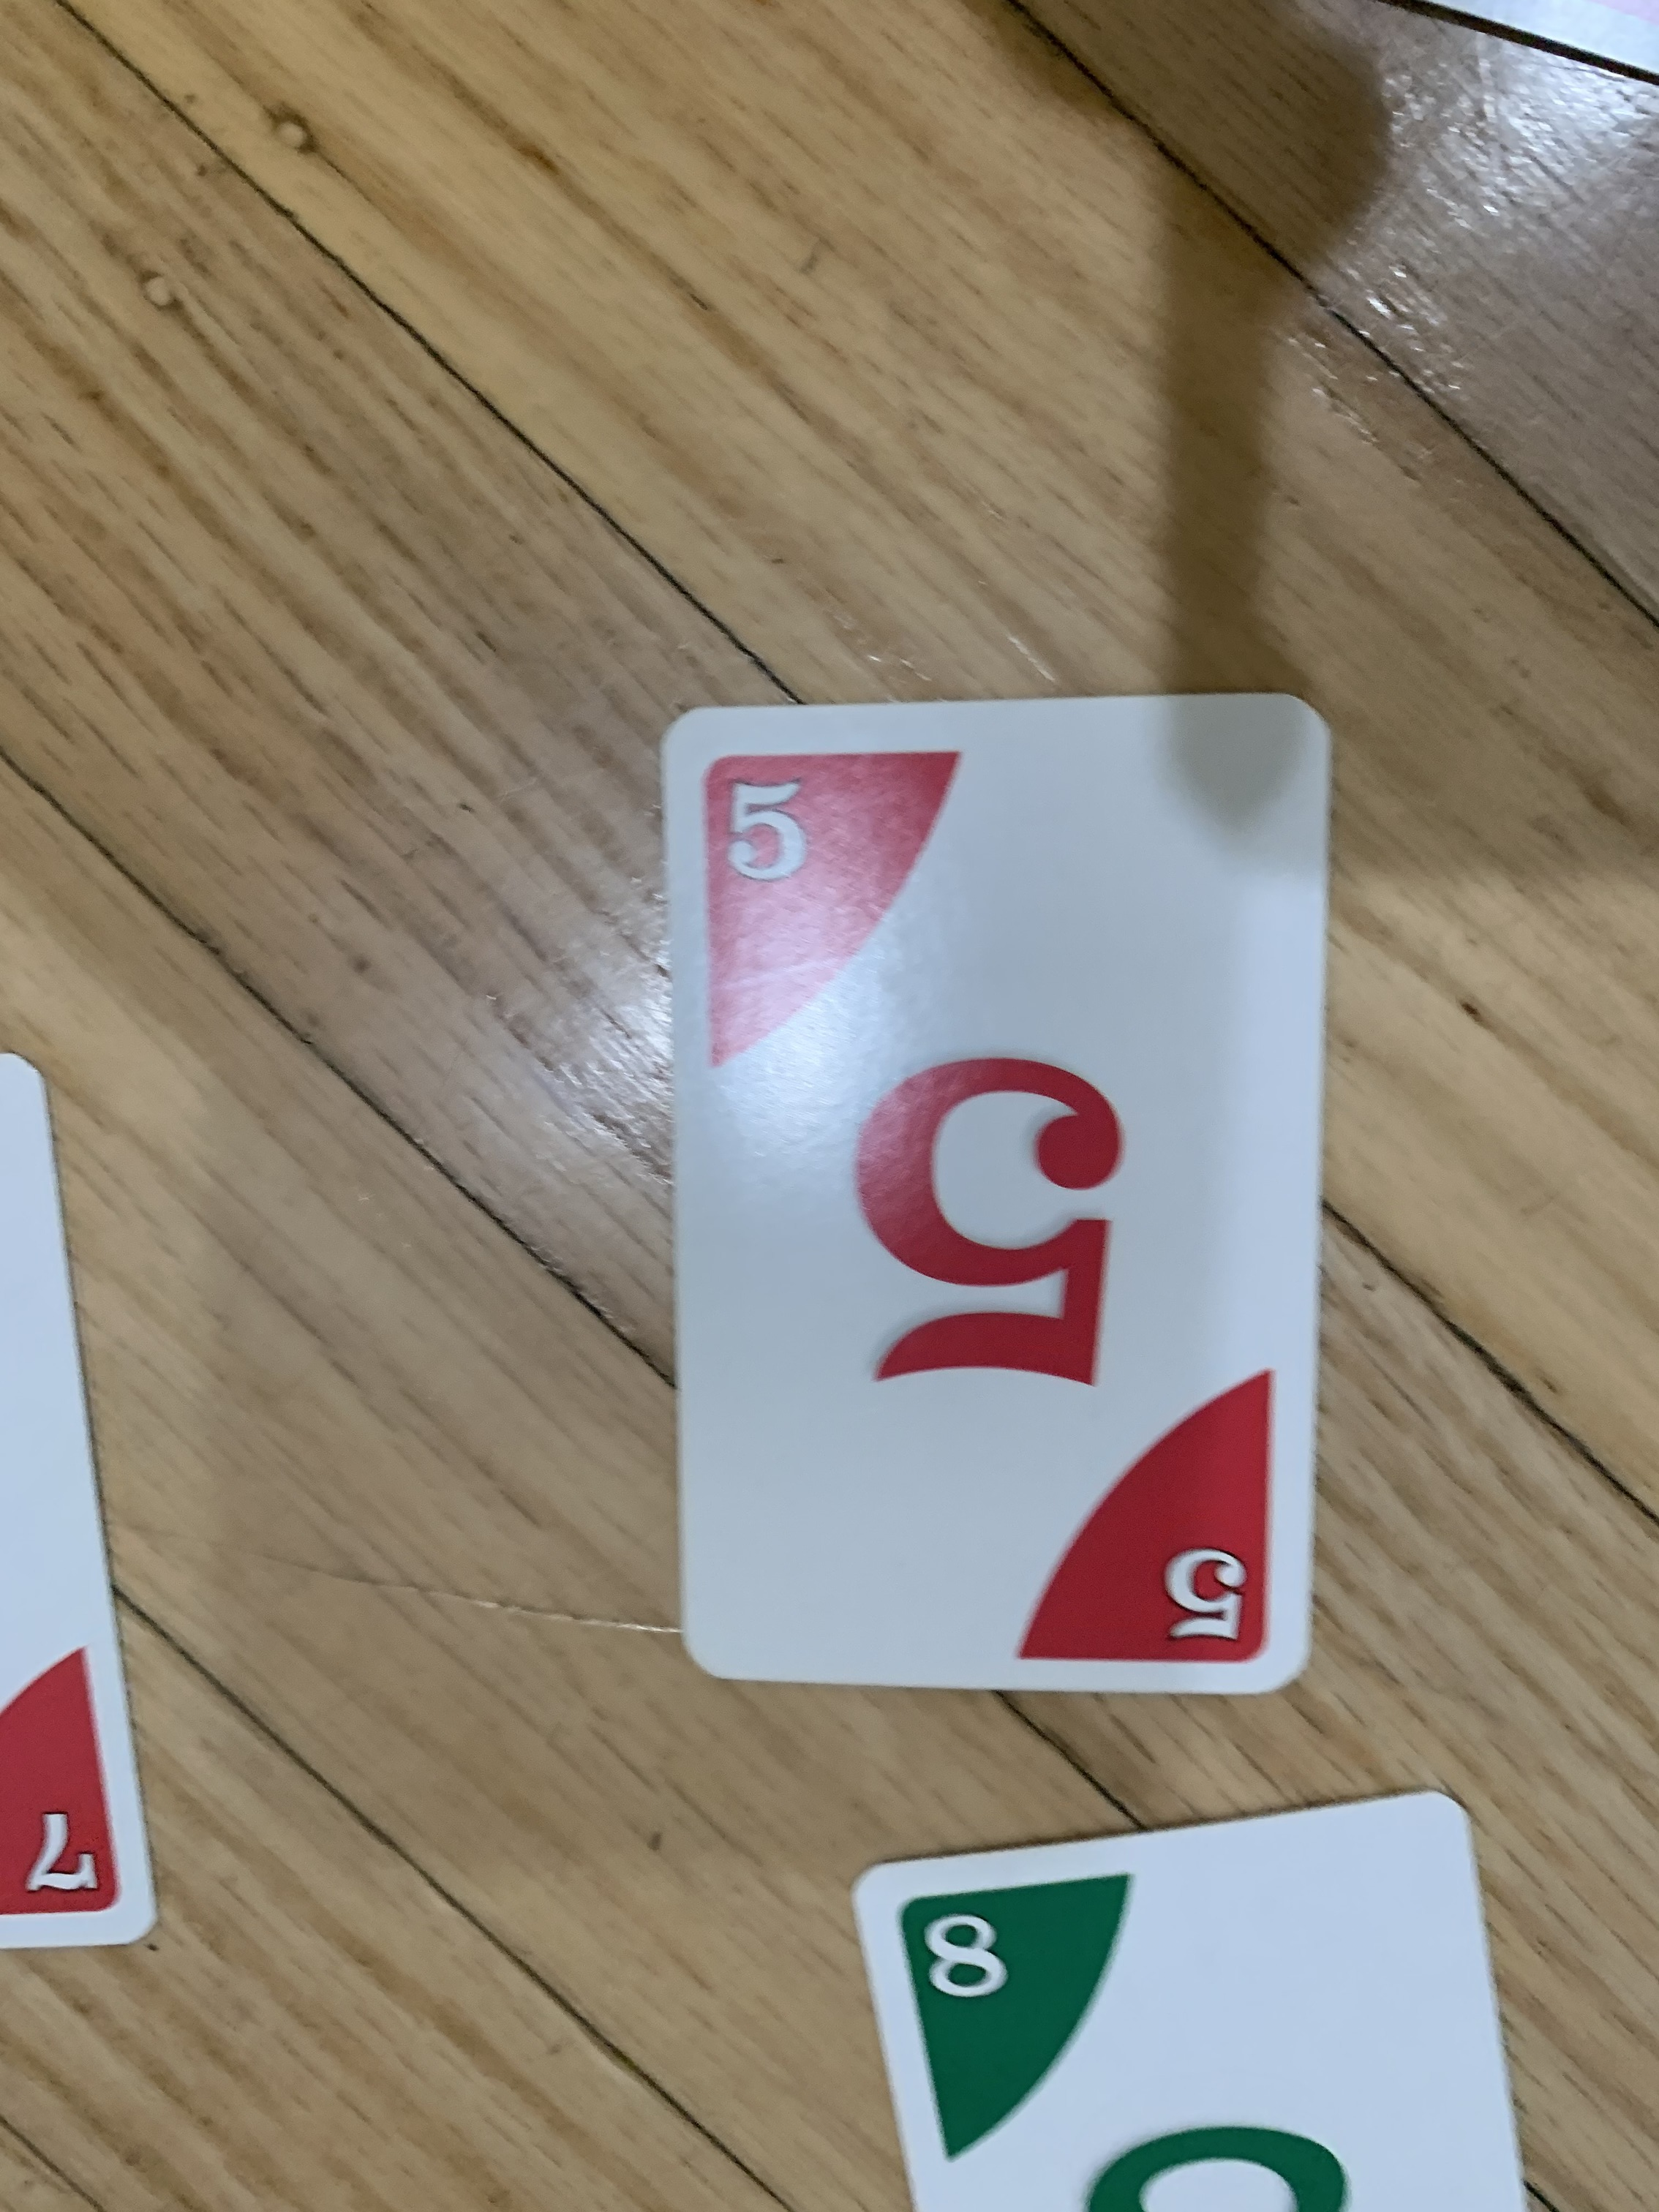five: (643, 681, 1338, 1705)
